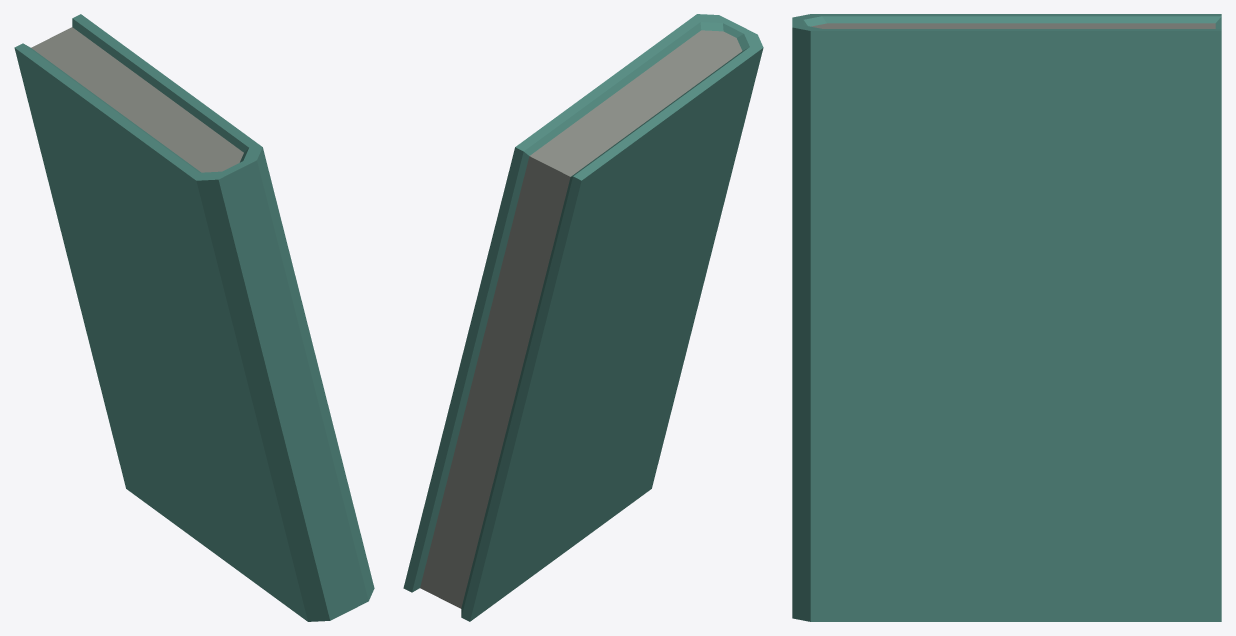
Rendered from Book.000.fbx.
3 views of the same model, side by side, from view 1: azimuth 30°, elevation 25°; view 2: azimuth 150°, elevation 25°; view 3: azimuth 270°, elevation 25° (orthographic). The views are drawn at different scales.
Visible parts, largest first — view 1: Book.000; view 2: Book.000; view 3: Book.000.
Part boxes in pixels (left/top/right/bottom): Book.000: left=14, top=14, right=374, bottom=621; Book.000: left=403, top=14, right=763, bottom=621; Book.000: left=792, top=14, right=1221, bottom=621.
Size of the model in its own units: 12.67 by 32.99 by 23.4.
